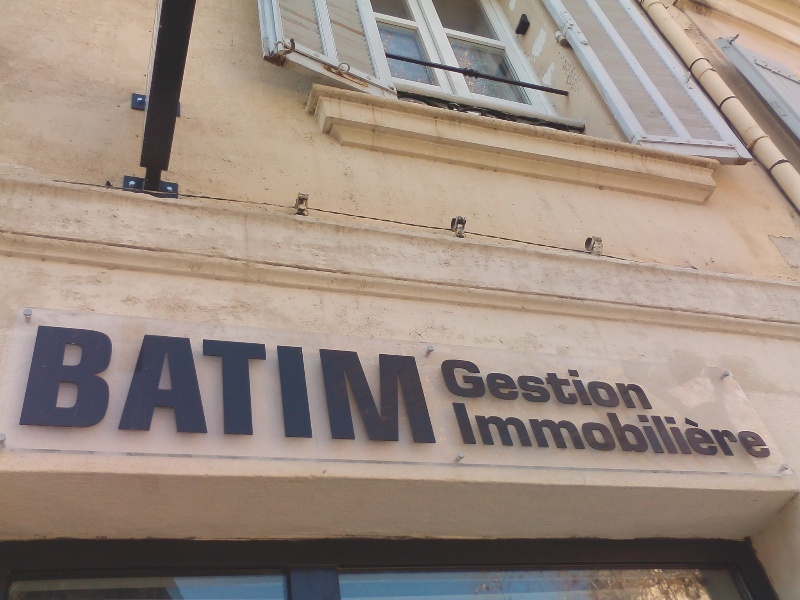text: (49, 324, 64, 447), (65, 324, 80, 447), (81, 324, 96, 447), (97, 324, 112, 447), (113, 324, 128, 447), (129, 324, 144, 447), (145, 324, 160, 447), (161, 324, 176, 447), (177, 324, 192, 447), (193, 324, 208, 447), (209, 324, 224, 447), (225, 324, 240, 447), (241, 324, 256, 447), (257, 324, 272, 447), (273, 324, 288, 447), (289, 324, 304, 447), (305, 324, 320, 447), (321, 324, 336, 447), (337, 324, 352, 447), (353, 324, 368, 447), (369, 324, 384, 447), (385, 324, 400, 447), (401, 324, 416, 447), (417, 324, 432, 447), (35, 324, 48, 447), (641, 357, 657, 412), (449, 402, 464, 460), (465, 402, 480, 460), (481, 402, 496, 460), (497, 402, 512, 460), (513, 402, 528, 460), (529, 402, 544, 460), (545, 402, 560, 460), (561, 402, 576, 460), (577, 402, 592, 460), (593, 402, 608, 460), (609, 402, 624, 460), (625, 402, 640, 460), (641, 402, 656, 460), (657, 402, 672, 460), (673, 402, 688, 460), (689, 402, 704, 460), (705, 402, 720, 460), (721, 402, 736, 460), (737, 402, 752, 460), (753, 402, 768, 460), (433, 324, 440, 447), (433, 357, 448, 412), (449, 357, 464, 412), (465, 357, 480, 412), (481, 357, 496, 412), (497, 357, 512, 412), (513, 357, 528, 412), (529, 357, 544, 412), (545, 357, 560, 412), (561, 357, 576, 412), (577, 357, 592, 412), (593, 357, 608, 412), (609, 357, 624, 412), (625, 357, 640, 412), (769, 402, 777, 460)
